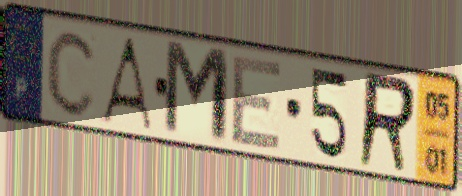5: (308, 64, 349, 161)
A: (96, 35, 155, 134)
C: (45, 26, 101, 119)
E: (228, 53, 285, 153)
M: (161, 36, 232, 150)
R: (354, 68, 420, 178)
